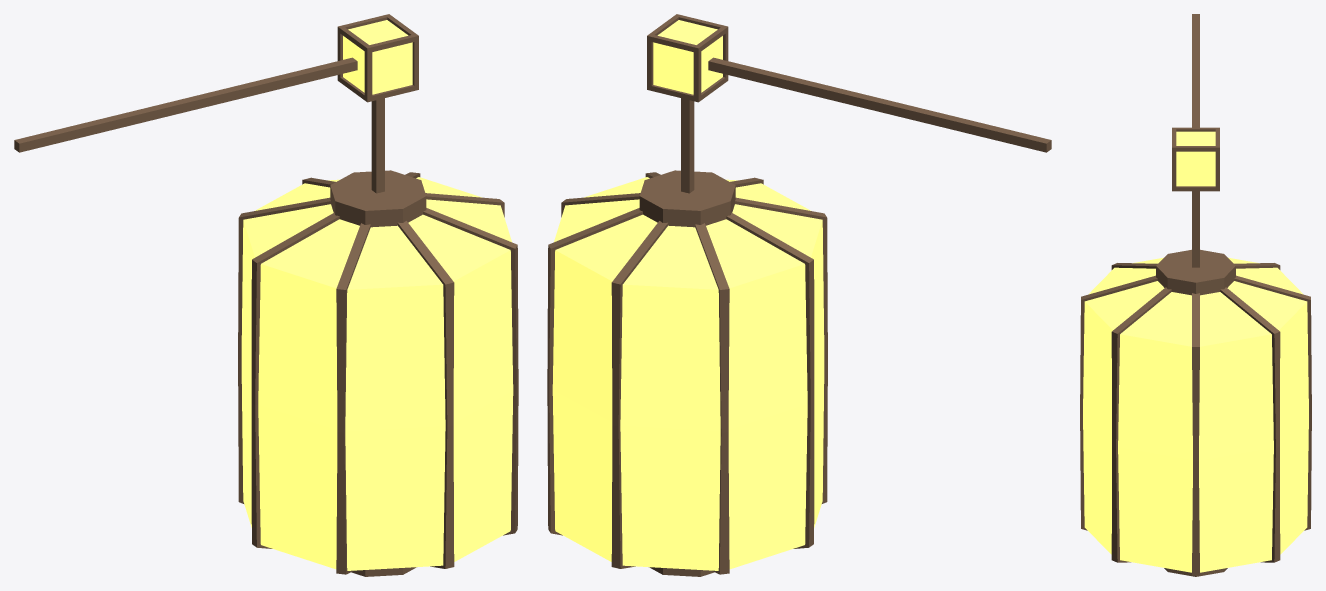
The model's file is Lampada_Lunga.fbx.
The picture shows the model from 3 angles, left to right: view 1: azimuth 30°, elevation 25°; view 2: azimuth 150°, elevation 25°; view 3: azimuth 270°, elevation 25°; orthographic projection. The views are drawn at different scales.
Parts seen in each view (by area): view 1: Lampada.002, Rinforzo.001, Giunto.002, SostegnoPrincipale.001, BloccoSuperiore.001, SostegnoSecondario.001; view 2: Lampada.002, Rinforzo.001, Giunto.002, SostegnoPrincipale.001, BloccoSuperiore.001, SostegnoSecondario.001; view 3: Lampada.002, Rinforzo.001, Giunto.002, BloccoSuperiore.001, SostegnoPrincipale.001, SostegnoSecondario.001.
Boxes of the visible parts, x1,y1,x2,y2 form: Lampada.002: (241,177,513,570); Rinforzo.001: (238,172,518,574); Giunto.002: (337,14,418,102); SostegnoPrincipale.001: (14,57,357,152); BloccoSuperiore.001: (330,170,426,227); SostegnoSecondario.001: (371,98,384,193); Lampada.002: (552,177,824,570); Rinforzo.001: (547,172,827,574); Giunto.002: (647,14,728,102); SostegnoPrincipale.001: (708,57,1051,152); BloccoSuperiore.001: (639,170,735,227); SostegnoSecondario.001: (681,98,694,193); Lampada.002: (1083,257,1308,572); Rinforzo.001: (1080,263,1311,575); Giunto.002: (1172,127,1219,191); BloccoSuperiore.001: (1156,249,1235,295); SostegnoPrincipale.001: (1192,14,1199,127); SostegnoSecondario.001: (1192,191,1199,267).
Size of the model in its own units: 0.8478 by 0.4356 by 0.8753.
